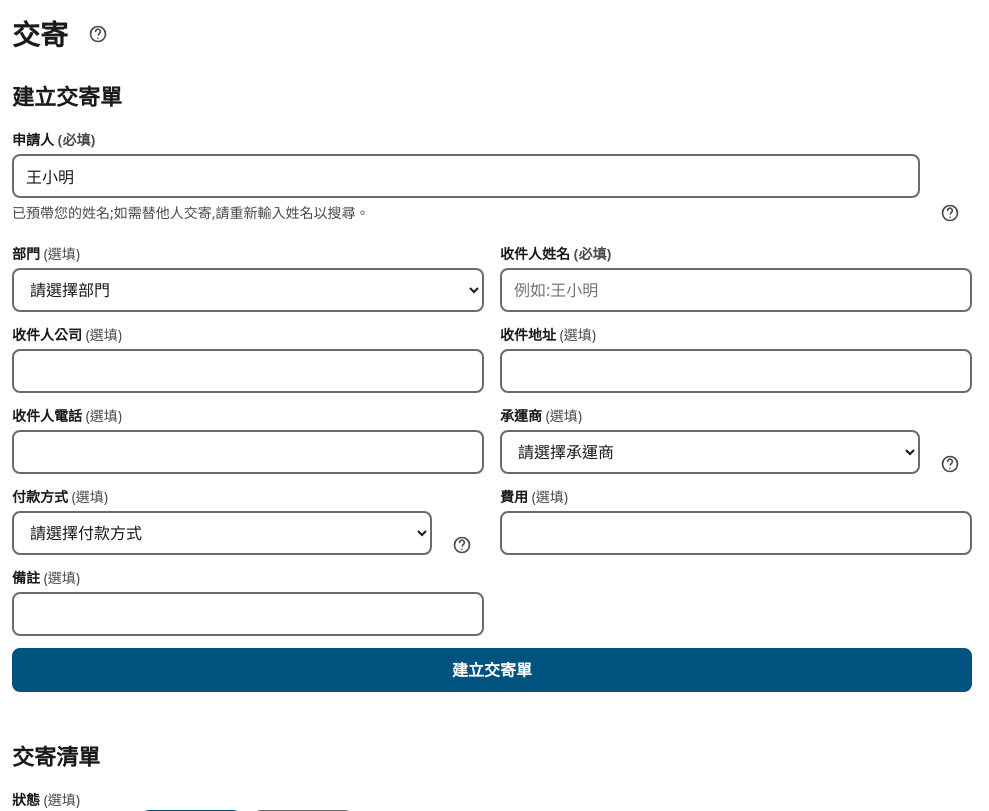
Scenario: OutboundPage › "其他" carrier -> free-text field › reveals a required free-text field when the carrier select resolves to "其他", and hides it again when switched away
The width and height of the screenshot is (989, 811).
Select "其他" in the dropdown labelled "承運商 (選填)" at (710, 452), box [500,430,920,474]
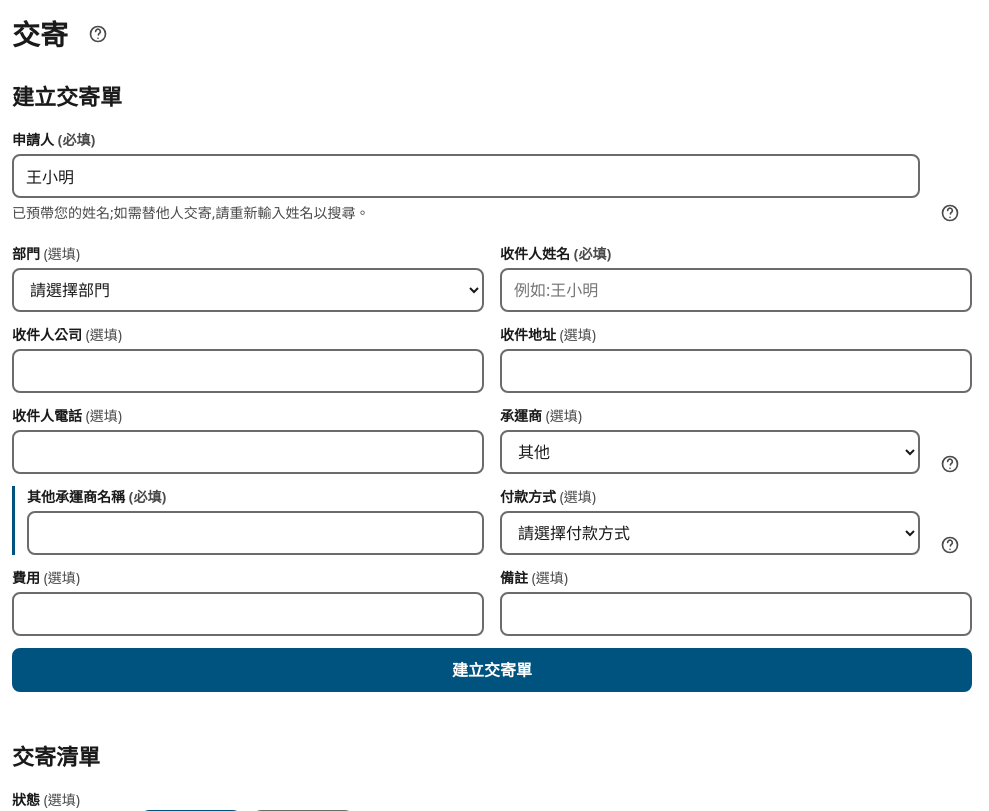
Expected: the text "其他承運商名稱" is shown, [27,487,129,506]
Select "黑貓宅急便" in the dropdown labelled "承運商 (選填)" at (710, 452), box [500,430,920,474]
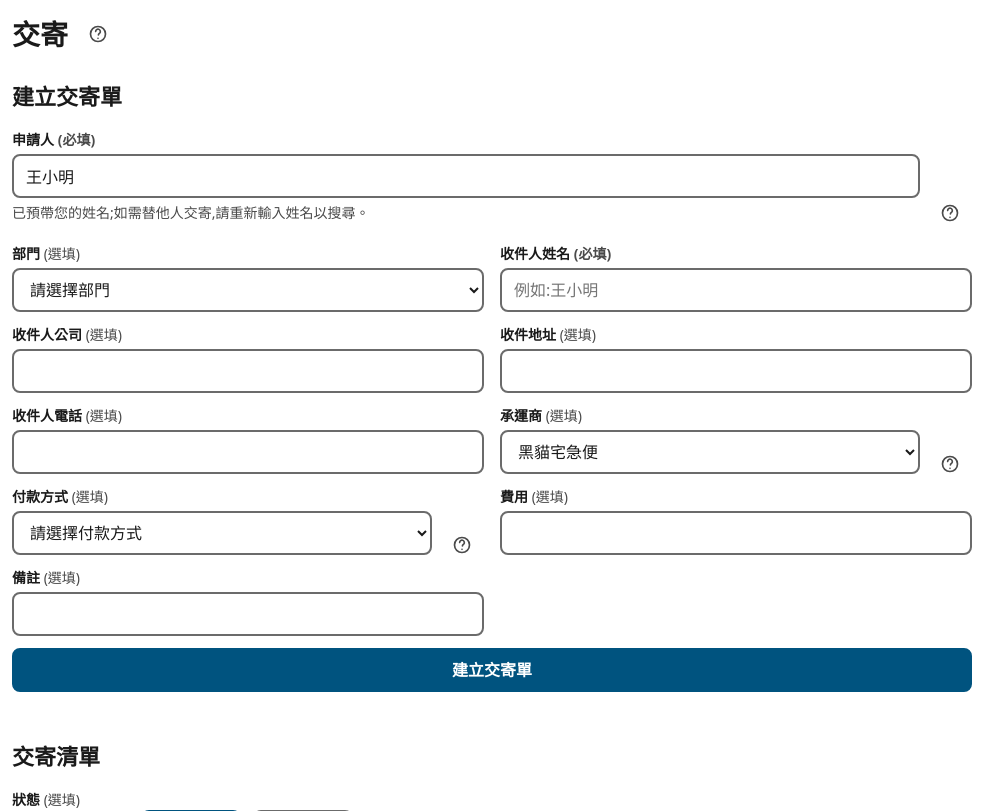
Expected: the text "其他承運商名稱" is gone
